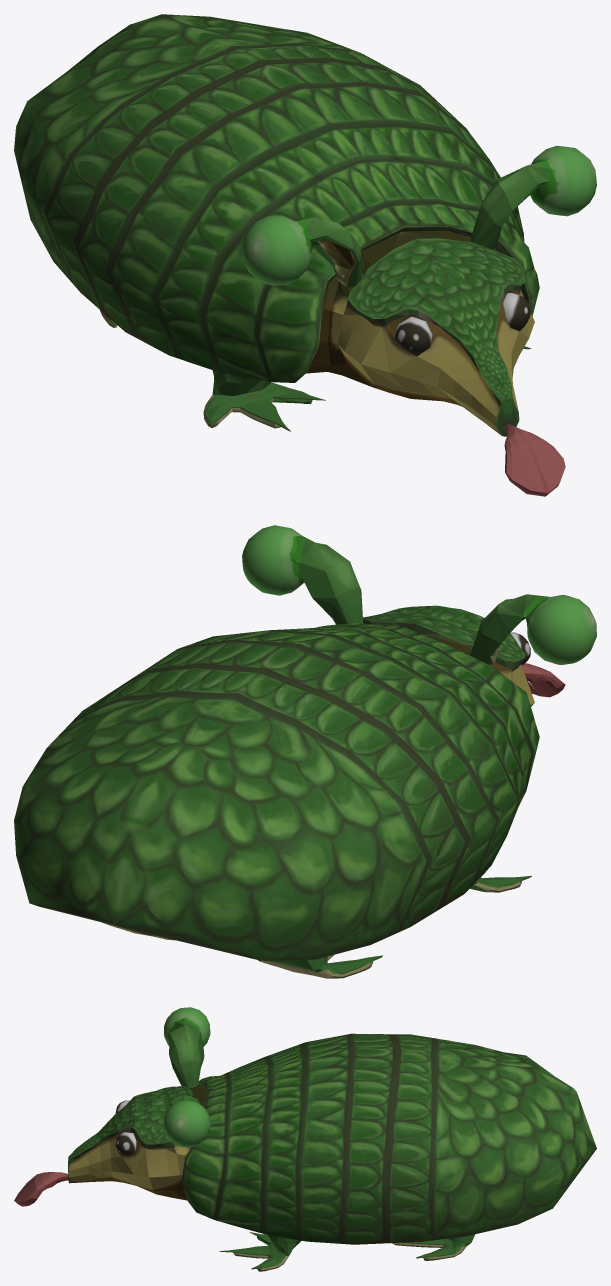
Rendered from Armadillo.glb.
The picture shows the model from 3 angles, top to bottom: view 1: azimuth 30°, elevation 25°; view 2: azimuth 150°, elevation 25°; view 3: azimuth 270°, elevation 25°; orthographic projection. The views are drawn at different scales.
Visible parts, largest first — view 1: Armadillo; view 2: Armadillo; view 3: Armadillo.
Boxes of the visible parts, x1=… form: Armadillo: x1=14, y1=14, x2=596, y2=496; Armadillo: x1=14, y1=525, x2=596, y2=978; Armadillo: x1=14, y1=1007, x2=596, y2=1271.
Size of the model in its own units: 0.5163 by 0.3201 by 0.9852.
1 material, 1 textured.
